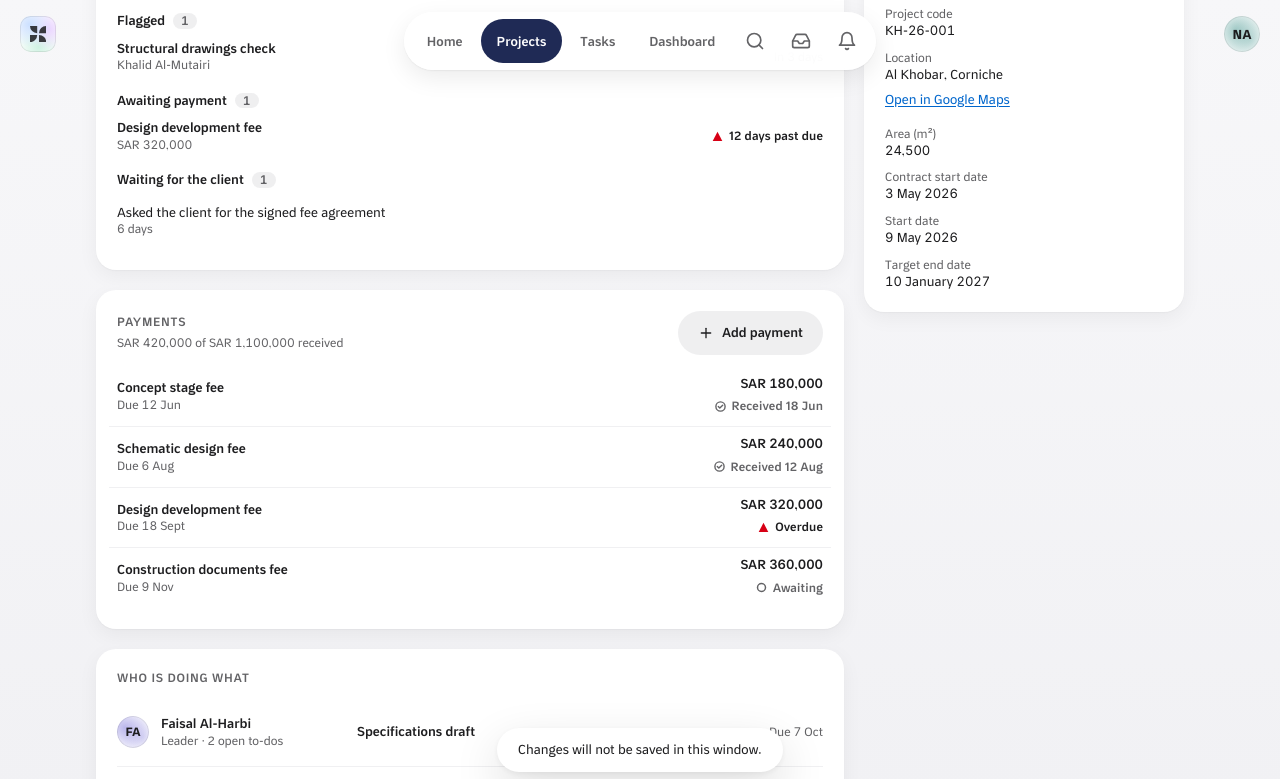
states 5 and 6: a linked payment › shows the invoice of a payment that Daftra marked received
(page scrolled)
What coordinates should you click on to do the following:
click the button "Concept stage fee Due 12 Jun SAR 180,000 Received 18 Jun"
I would click on:
 (171, 387)
Its box is [109, 366, 831, 426].
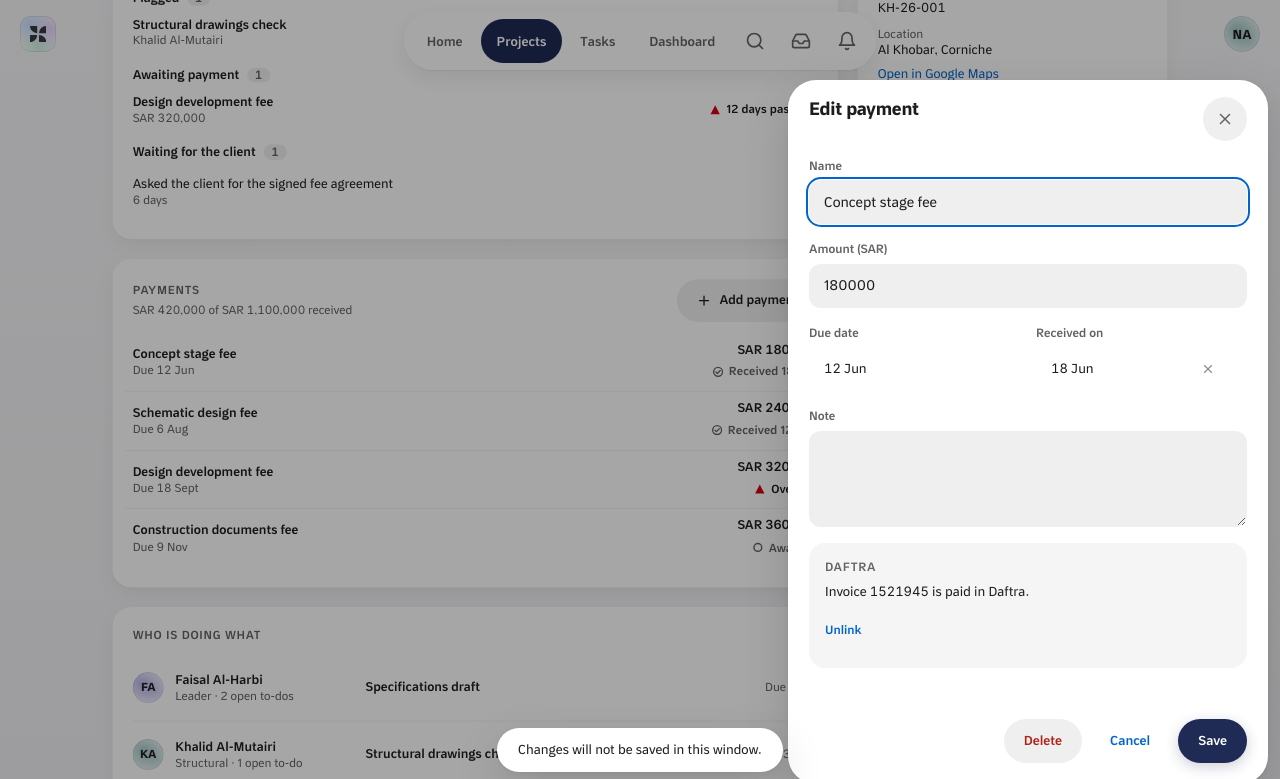
Expected: the text "Invoice 1521945 is paid in Daftra." is shown, [825, 583, 1029, 599]
Expected: the button "Unlink" is shown, [825, 608, 862, 652]
